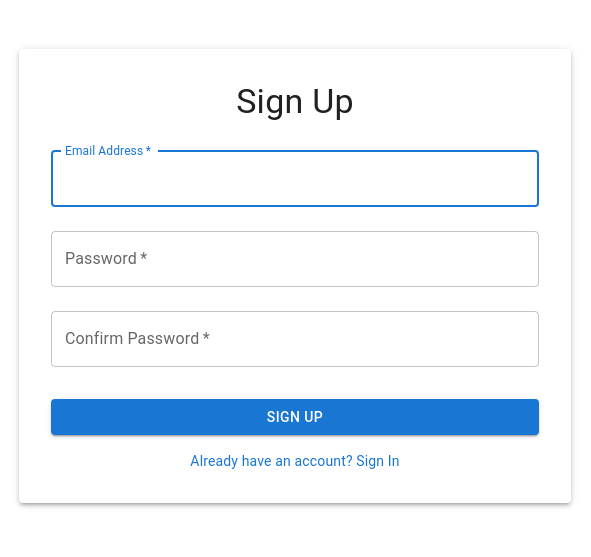
Test case: RegisterPage › should handle registration error
Type "test@example.com" into the field labelled "Email Address" at (295, 179), box [51,151,539,207]
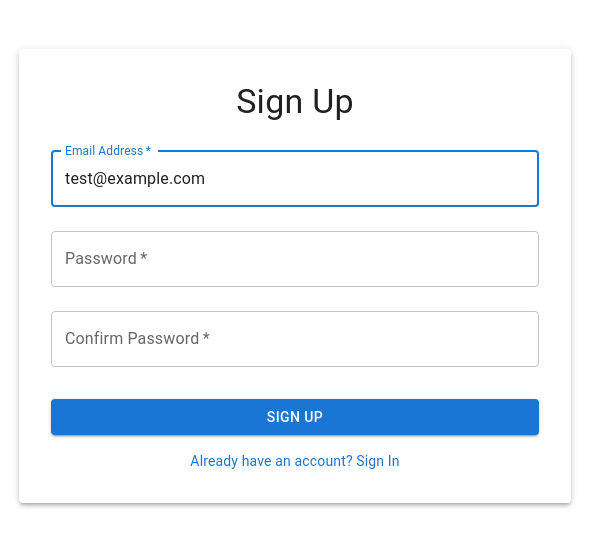
Type "password123" into the password field labelled "Password *" at (295, 259), box [51,231,539,287]
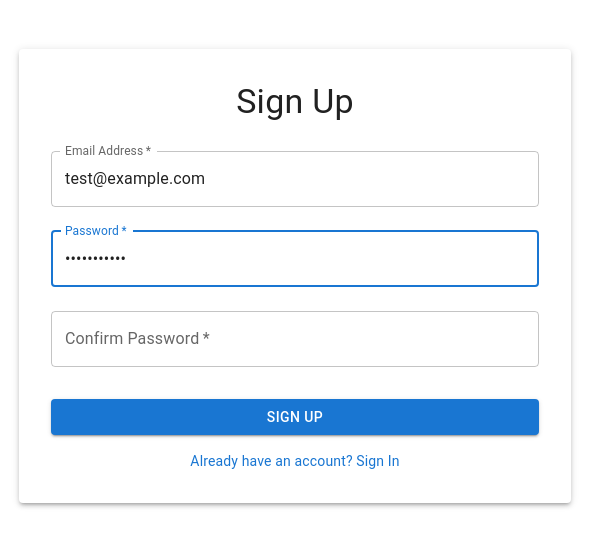
Type "password123" into the password field labelled "Confirm Password *" at (295, 339), box [51,311,539,367]
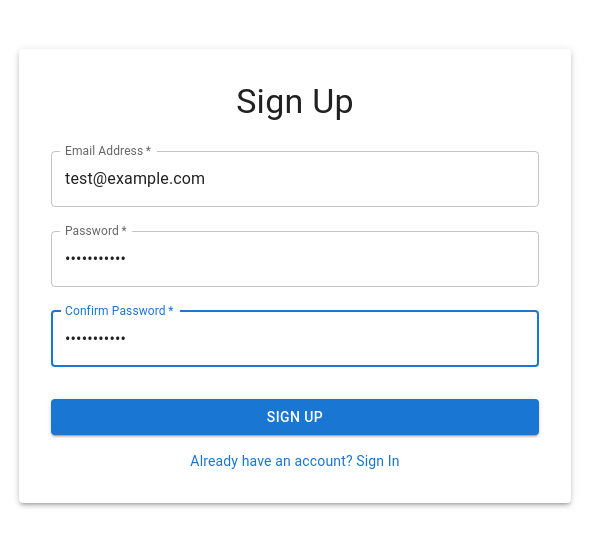
Click the button "Sign Up" at (295, 417), box [51,399,539,435]
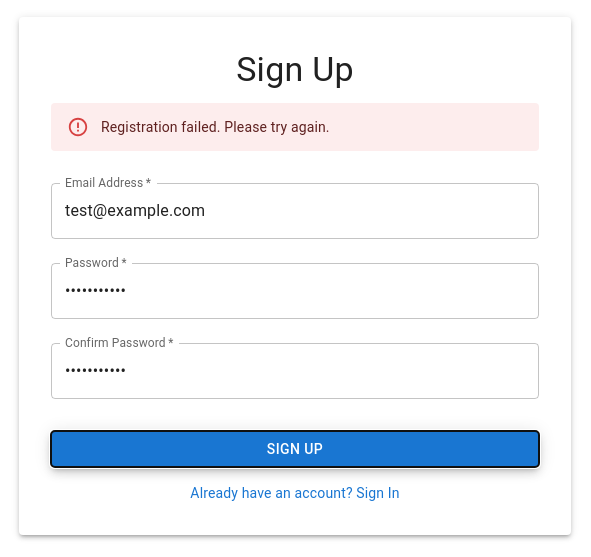
Check: the text "Registration failed. Please try again." is shown, box [101,119,330,135]
